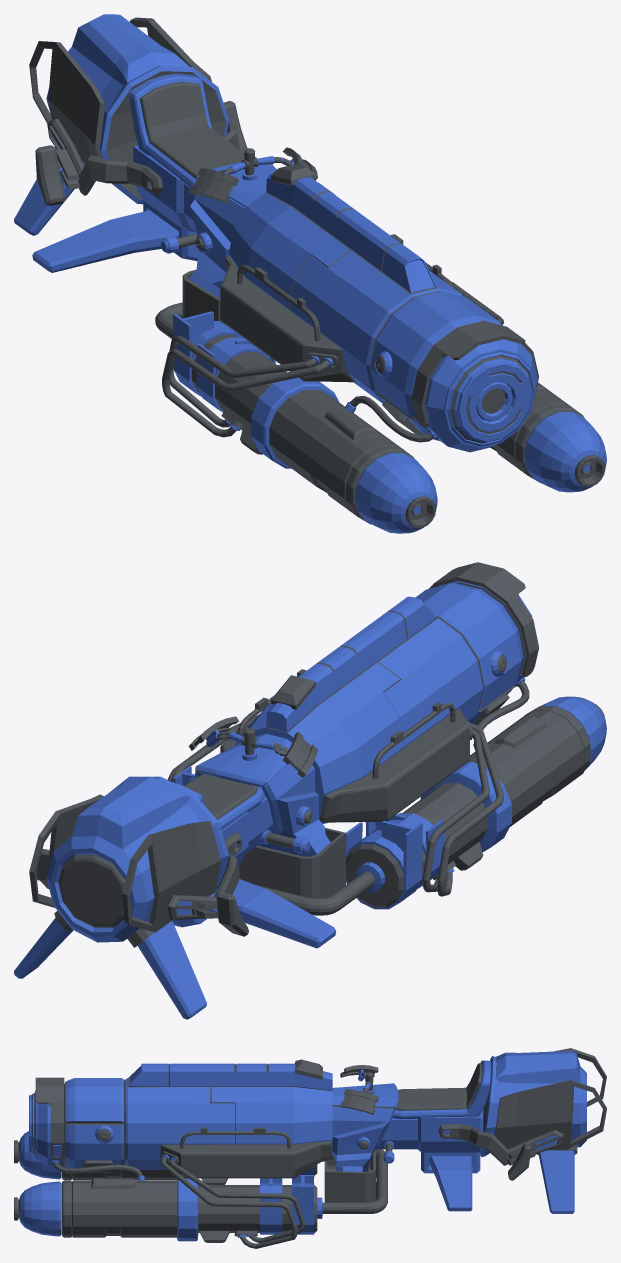
File: Personal_Vehicle_03_Blue.fbx
3 views of the same model, one above another, from view 1: azimuth 30°, elevation 25°; view 2: azimuth 150°, elevation 25°; view 3: azimuth 270°, elevation 25° (orthographic). The views are drawn at different scales.
Parts seen in each view (by area): view 1: Personal_Vehicle_03_Blue; view 2: Personal_Vehicle_03_Blue; view 3: Personal_Vehicle_03_Blue.
Boxes of the visible parts, x1,y1,x2,y2 form: Personal_Vehicle_03_Blue: (14, 14, 606, 533); Personal_Vehicle_03_Blue: (14, 562, 606, 1019); Personal_Vehicle_03_Blue: (14, 1048, 606, 1248).
Size of the model in its own units: 181 by 135 by 465.
2 materials, 2 textured.
